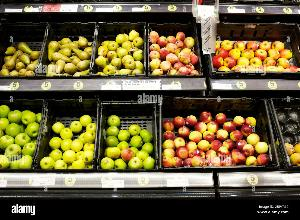apple: (163, 98, 273, 170), (208, 20, 300, 74), (102, 104, 158, 172), (43, 104, 95, 170), (149, 26, 208, 78), (0, 102, 42, 170), (272, 95, 300, 165)
pear: (39, 21, 96, 79), (98, 22, 146, 76), (0, 28, 46, 75)
